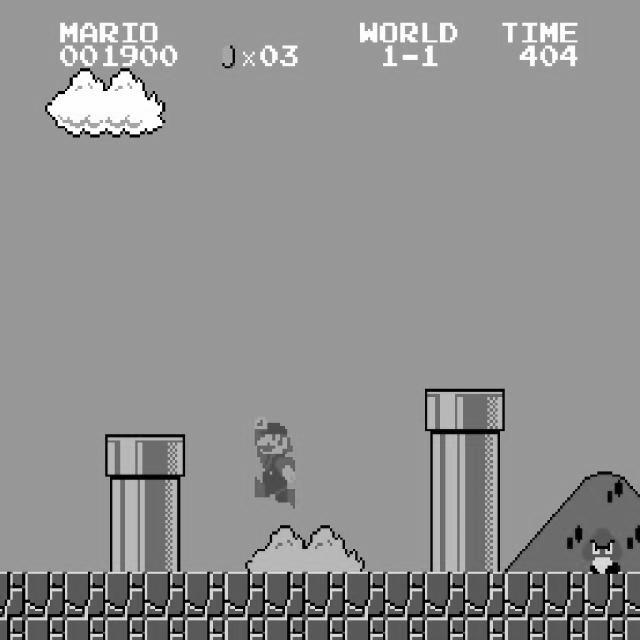0- big_mario: (252, 414, 295, 508)
14- pipe: (104, 480, 146, 526), (104, 526, 146, 572), (144, 480, 186, 526), (144, 526, 186, 572), (424, 434, 466, 480), (424, 480, 466, 526), (424, 526, 466, 572), (464, 434, 506, 480), (464, 480, 506, 526), (464, 526, 506, 572)
15- pipe_head: (104, 434, 146, 480), (144, 434, 186, 480), (424, 388, 466, 434), (464, 388, 506, 434)
17- undestructible_block: (24, 572, 66, 618), (64, 572, 106, 618), (104, 572, 146, 618), (144, 572, 186, 618), (184, 572, 226, 618), (224, 572, 266, 618), (264, 572, 306, 618), (304, 572, 346, 618), (344, 572, 386, 618), (384, 572, 426, 618), (424, 572, 466, 618), (464, 572, 506, 618), (504, 572, 546, 618), (544, 572, 586, 618), (584, 572, 626, 618), (0, 571, 25, 617), (24, 617, 66, 640), (64, 617, 106, 640), (104, 617, 146, 640), (144, 617, 186, 640), (184, 617, 226, 640), (224, 617, 266, 640), (264, 617, 306, 640), (304, 617, 346, 640), (344, 617, 386, 640), (384, 617, 426, 640), (424, 617, 466, 640), (464, 617, 506, 640), (504, 617, 546, 640), (544, 617, 586, 640), (584, 617, 626, 640), (625, 572, 640, 618), (0, 617, 25, 639), (625, 617, 640, 640)
8- goomba: (580, 526, 622, 574)
